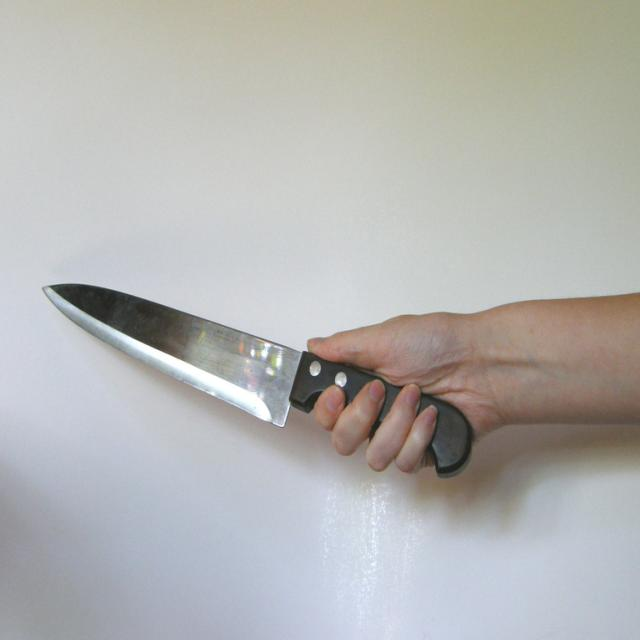knife: (38, 273, 478, 479)
